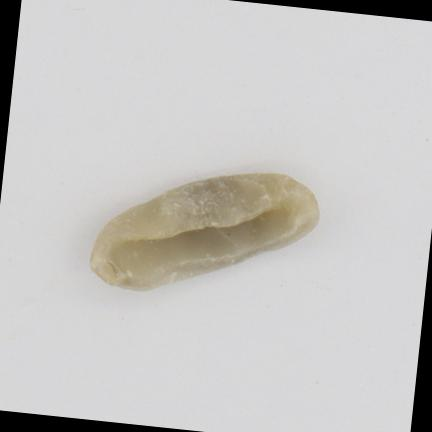shell: (91, 174, 319, 290)
